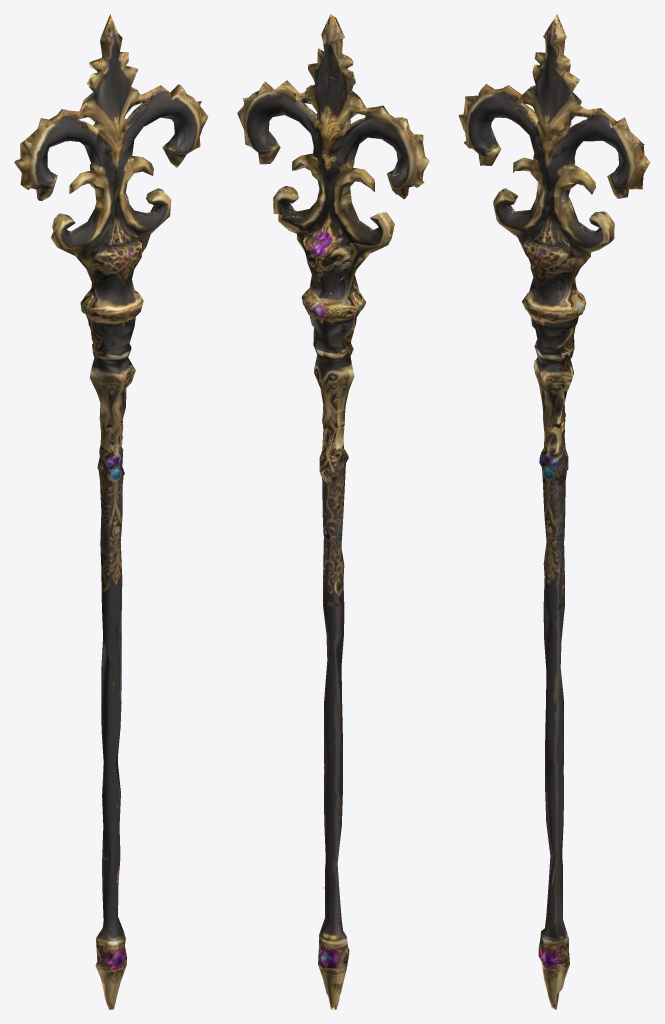
The model's file is 1034_wand.glb.
The picture shows the model from 3 angles, left to right: view 1: azimuth 30°, elevation 25°; view 2: azimuth 150°, elevation 25°; view 3: azimuth 330°, elevation 25°; orthographic projection.
Parts seen in each view (by area): view 1: Model; view 2: Model; view 3: Model.
Part boxes in pixels (<box>): Model: <box>14,14,208,1009</box>; Model: <box>237,14,429,1009</box>; Model: <box>458,14,650,1009</box>.
Bounding box in the file's own units: 0.2028 × 1 × 0.0624.
Materials: 1 (1 with a texture image).
